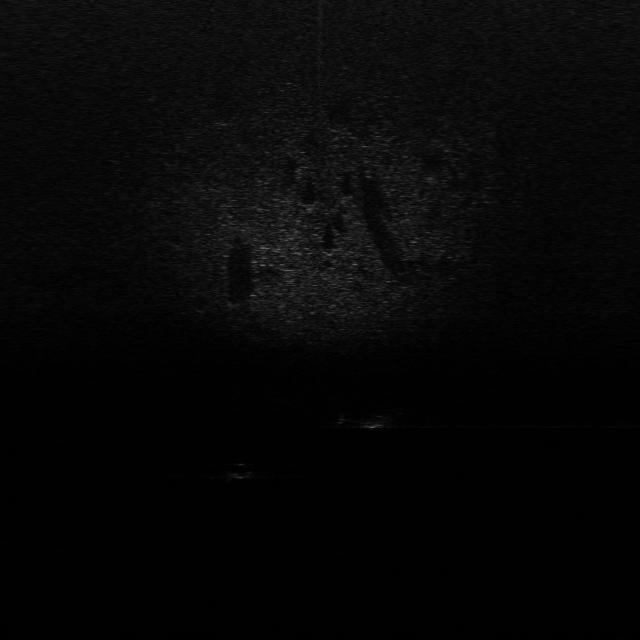ball: (223, 461, 262, 482)
human body: (331, 407, 407, 430)
